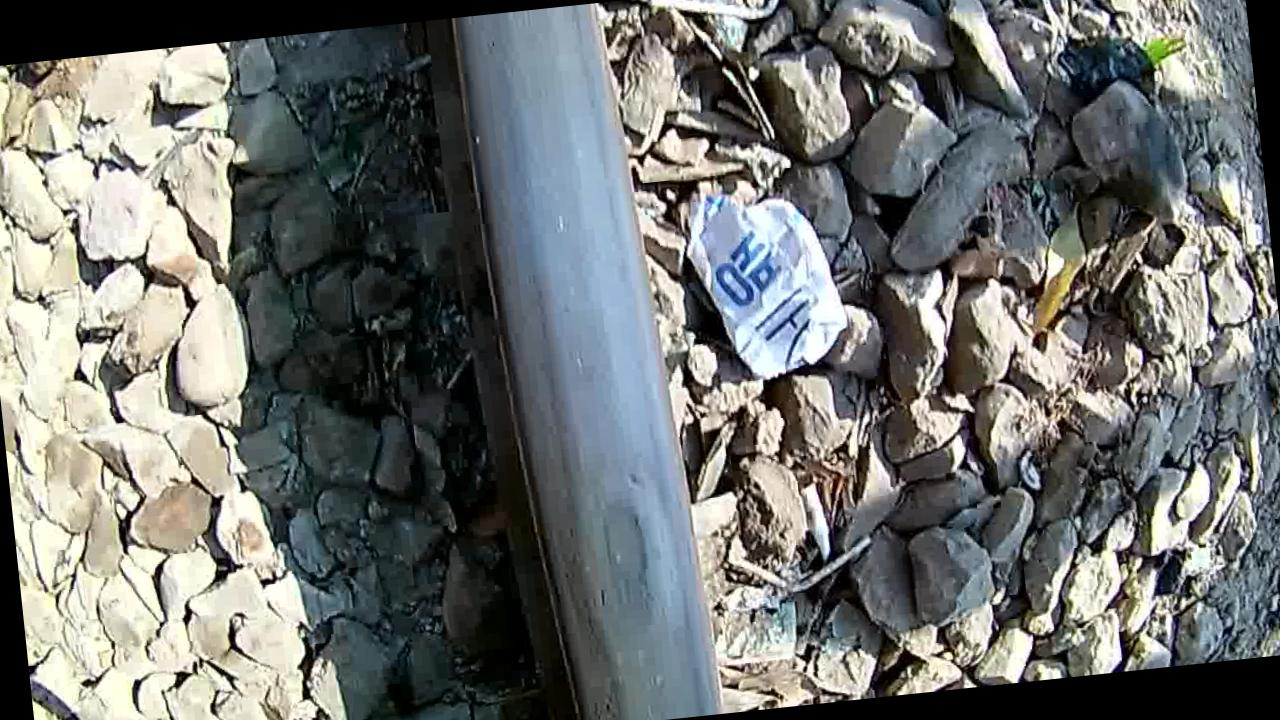bolt_missing: (521, 424, 713, 698)
